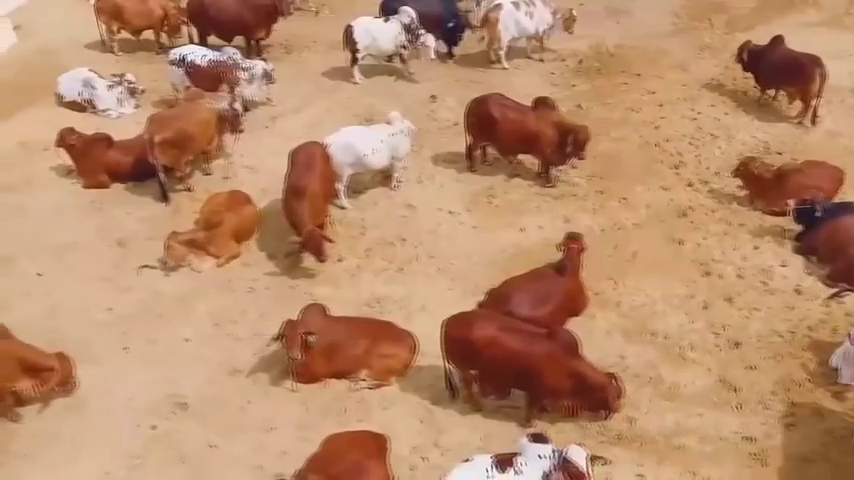bo: (435, 304, 624, 434), (273, 289, 424, 391), (457, 83, 598, 192), (472, 225, 601, 330), (419, 423, 614, 478), (317, 101, 421, 204), (7, 316, 91, 440), (138, 93, 251, 183), (732, 27, 828, 130), (279, 131, 344, 283), (335, 3, 442, 92), (158, 184, 262, 274), (725, 146, 854, 214), (476, 1, 591, 70), (50, 117, 152, 194), (782, 188, 852, 299), (164, 41, 278, 105), (289, 424, 408, 480), (42, 60, 147, 121), (180, 1, 295, 56), (372, 2, 475, 61), (89, 1, 187, 61)
